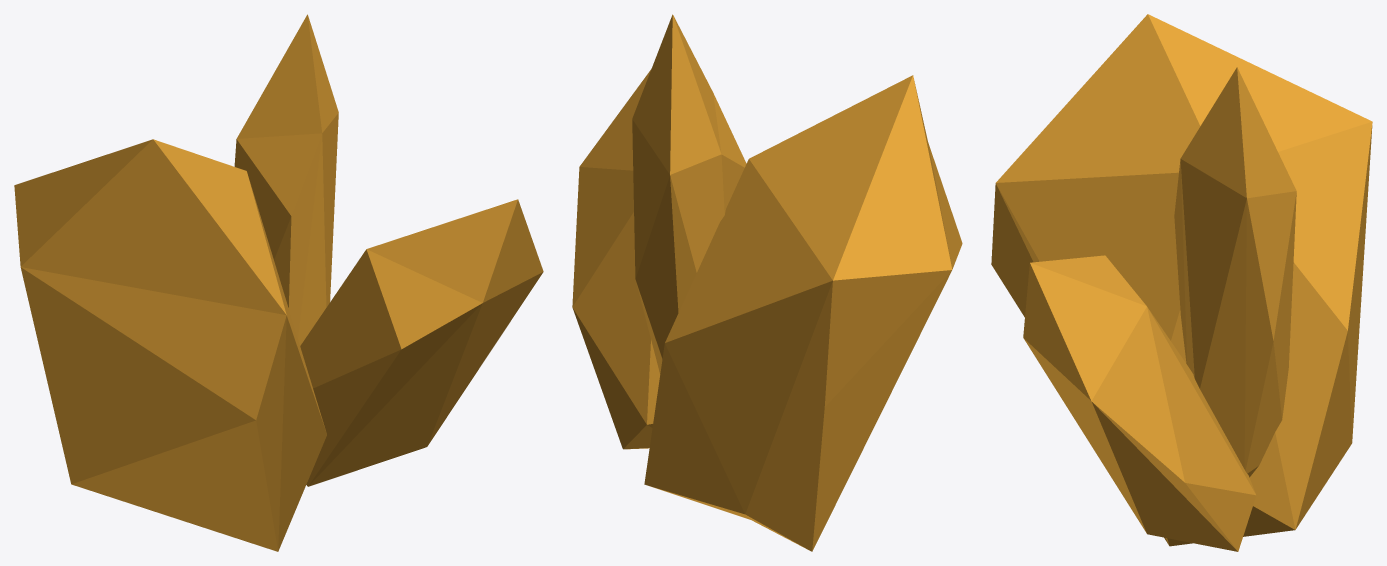
The model's file is Crystal_Yellow.fbx.
3 views of the same model, side by side, from view 1: azimuth 30°, elevation 25°; view 2: azimuth 150°, elevation 25°; view 3: azimuth 270°, elevation 25° (orthographic). The views are drawn at different scales.
Visible parts, largest first — view 1: cristal.003; view 2: cristal.003; view 3: cristal.003.
Part boxes in pixels (x1=…): cristal.003: x1=14, y1=14, x2=543, y2=551; cristal.003: x1=572, y1=14, x2=962, y2=551; cristal.003: x1=991, y1=14, x2=1372, y2=551.
Bounding box in the file's own units: 98.64 × 105 × 70.81.
